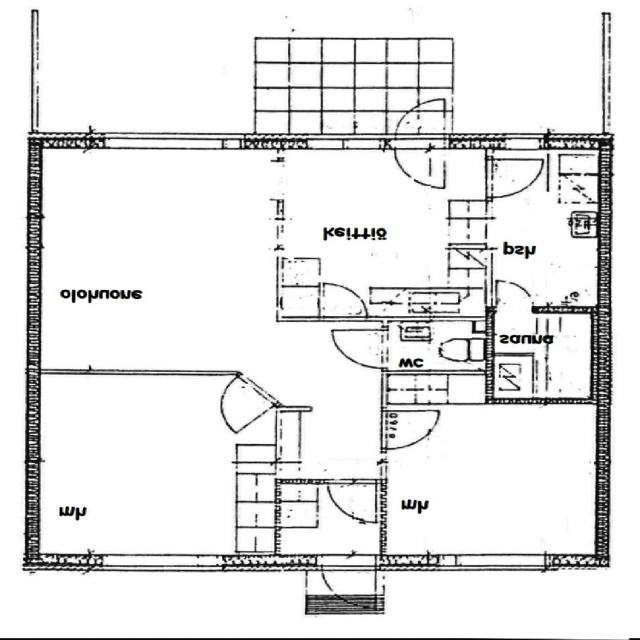door: (201, 373, 279, 432), (322, 554, 376, 610), (396, 96, 446, 148), (396, 134, 446, 186), (331, 329, 388, 368), (382, 410, 439, 449), (486, 159, 544, 197), (328, 478, 377, 520), (324, 284, 367, 320), (497, 279, 533, 312)
